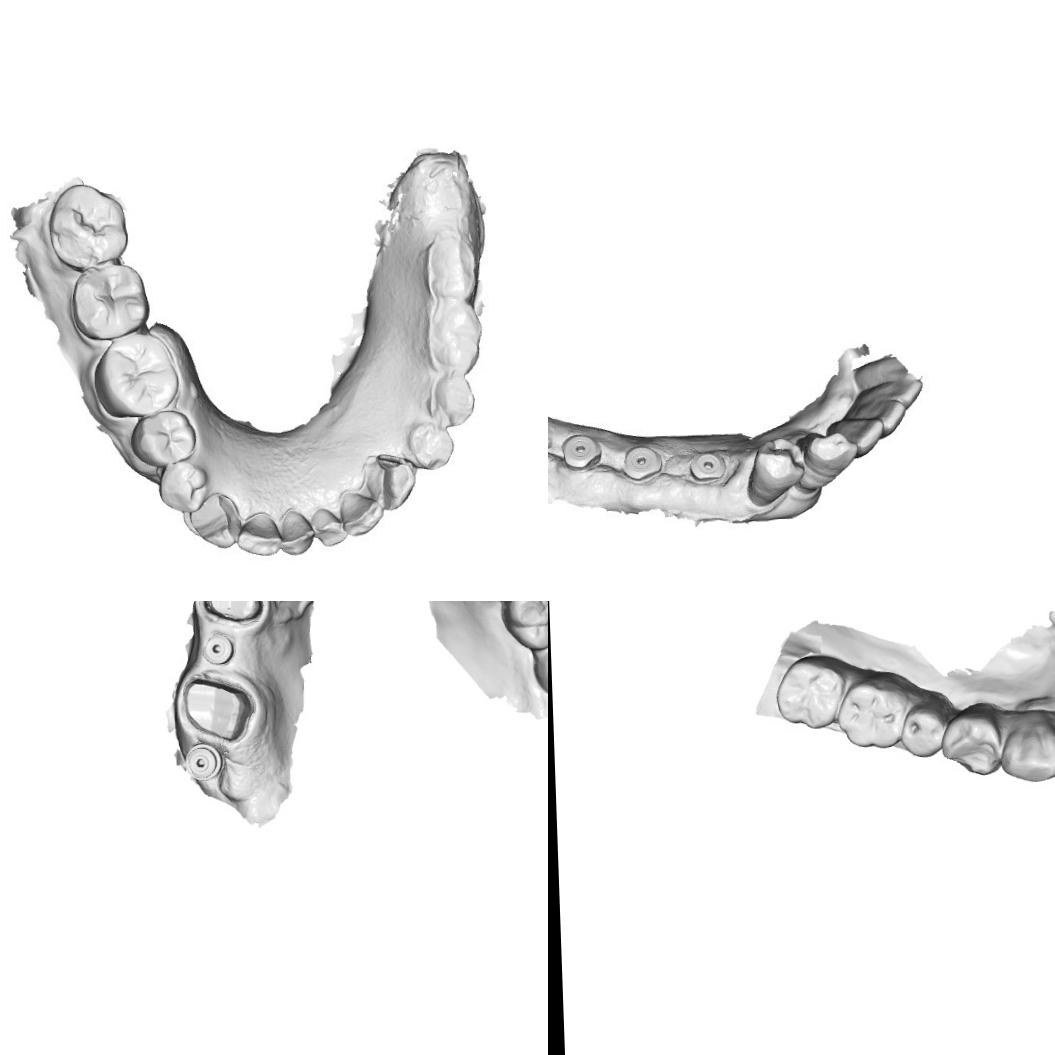canine: (796, 427, 861, 497), (997, 712, 1055, 786), (366, 448, 418, 510)
crown: (182, 672, 256, 746), (185, 493, 238, 551), (201, 601, 267, 624)
implant: (558, 430, 600, 471), (619, 444, 664, 482), (184, 742, 222, 782), (689, 452, 730, 486), (201, 631, 238, 667)
incisor: (836, 414, 887, 460), (854, 399, 907, 439), (864, 376, 923, 410), (344, 491, 385, 536), (240, 513, 278, 558), (281, 510, 316, 556), (310, 509, 348, 546)
molar: (772, 650, 848, 736), (48, 188, 130, 264), (100, 336, 175, 409), (836, 676, 908, 750), (76, 266, 148, 336), (430, 302, 485, 374), (428, 232, 482, 296), (498, 601, 548, 653), (529, 622, 548, 702)
premolar: (941, 704, 1005, 778), (743, 438, 802, 508), (898, 696, 954, 762), (136, 414, 192, 460), (162, 460, 209, 508), (412, 420, 450, 470), (432, 378, 473, 422)
